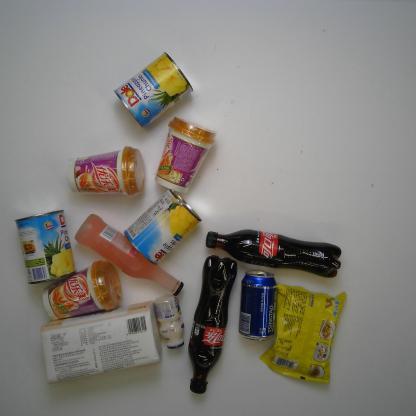Alcohol: (74, 213, 185, 297), (237, 269, 278, 342)
Canned Food: (113, 50, 195, 130), (124, 188, 203, 266), (14, 209, 77, 285)
Drink: (186, 253, 238, 396), (205, 228, 343, 279)
Instant Drink: (152, 115, 219, 195), (41, 259, 124, 321), (68, 145, 148, 198)
Instant Noodles: (259, 282, 347, 385)
Milk: (154, 295, 186, 350)
Tissue: (40, 298, 163, 386)
